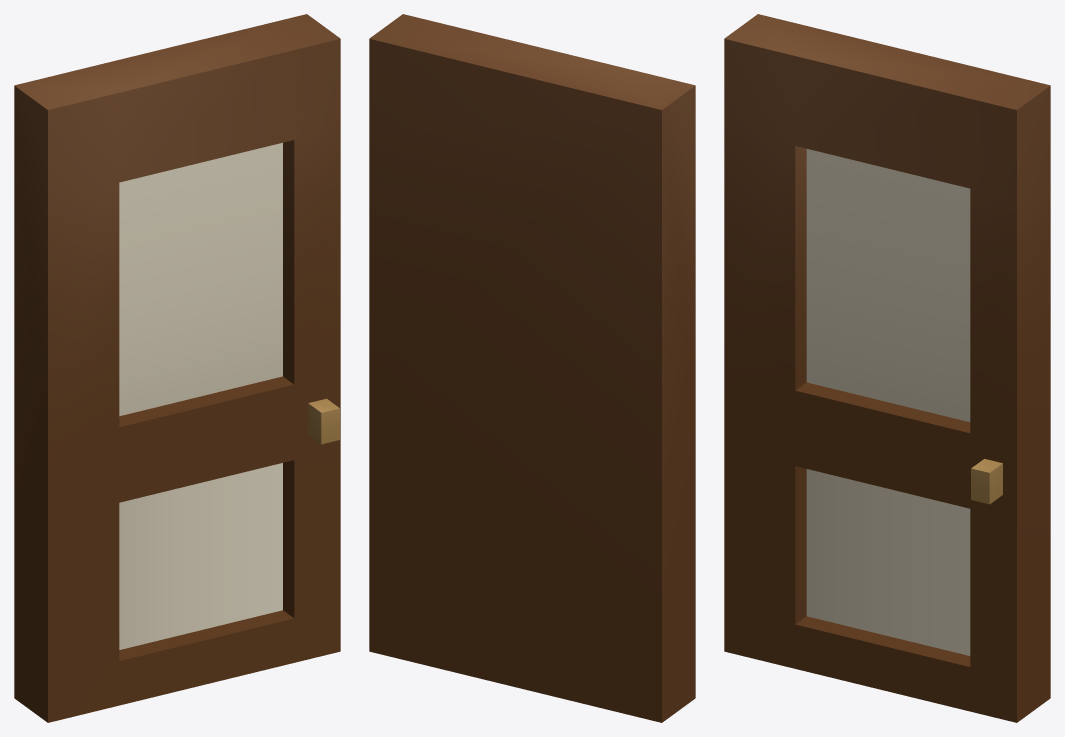
File: House_Door_1m_L.gltf
3 views of the same model, side by side, from view 1: azimuth 30°, elevation 25°; view 2: azimuth 150°, elevation 25°; view 3: azimuth 330°, elevation 25° (orthographic).
Visible parts, largest first — view 1: House_Door_1m_L; view 2: House_Door_1m_L; view 3: House_Door_1m_L.
Part boxes in pixels (<box>): House_Door_1m_L: <box>14,14,340,722</box>; House_Door_1m_L: <box>369,14,695,722</box>; House_Door_1m_L: <box>724,14,1050,722</box>.
Size of the model in its own units: 1 by 2 by 0.2785.
1 material, 1 textured.
